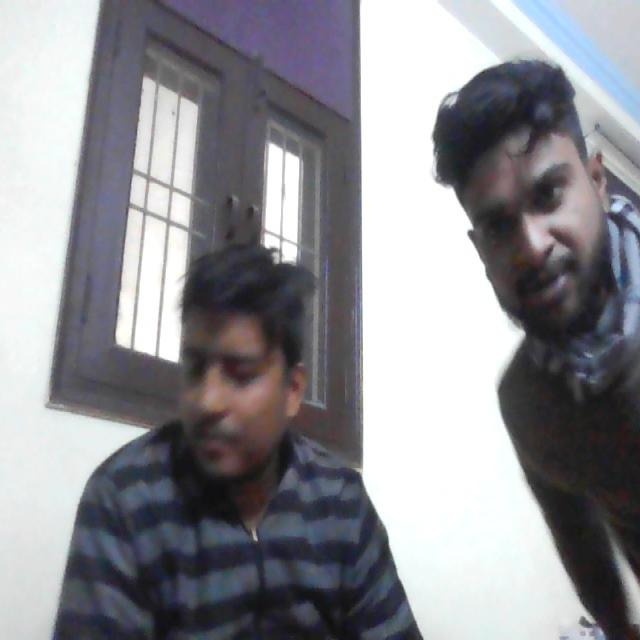real: (169, 237, 310, 504), (470, 75, 609, 337)
